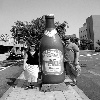beer: (42, 12, 63, 83)
